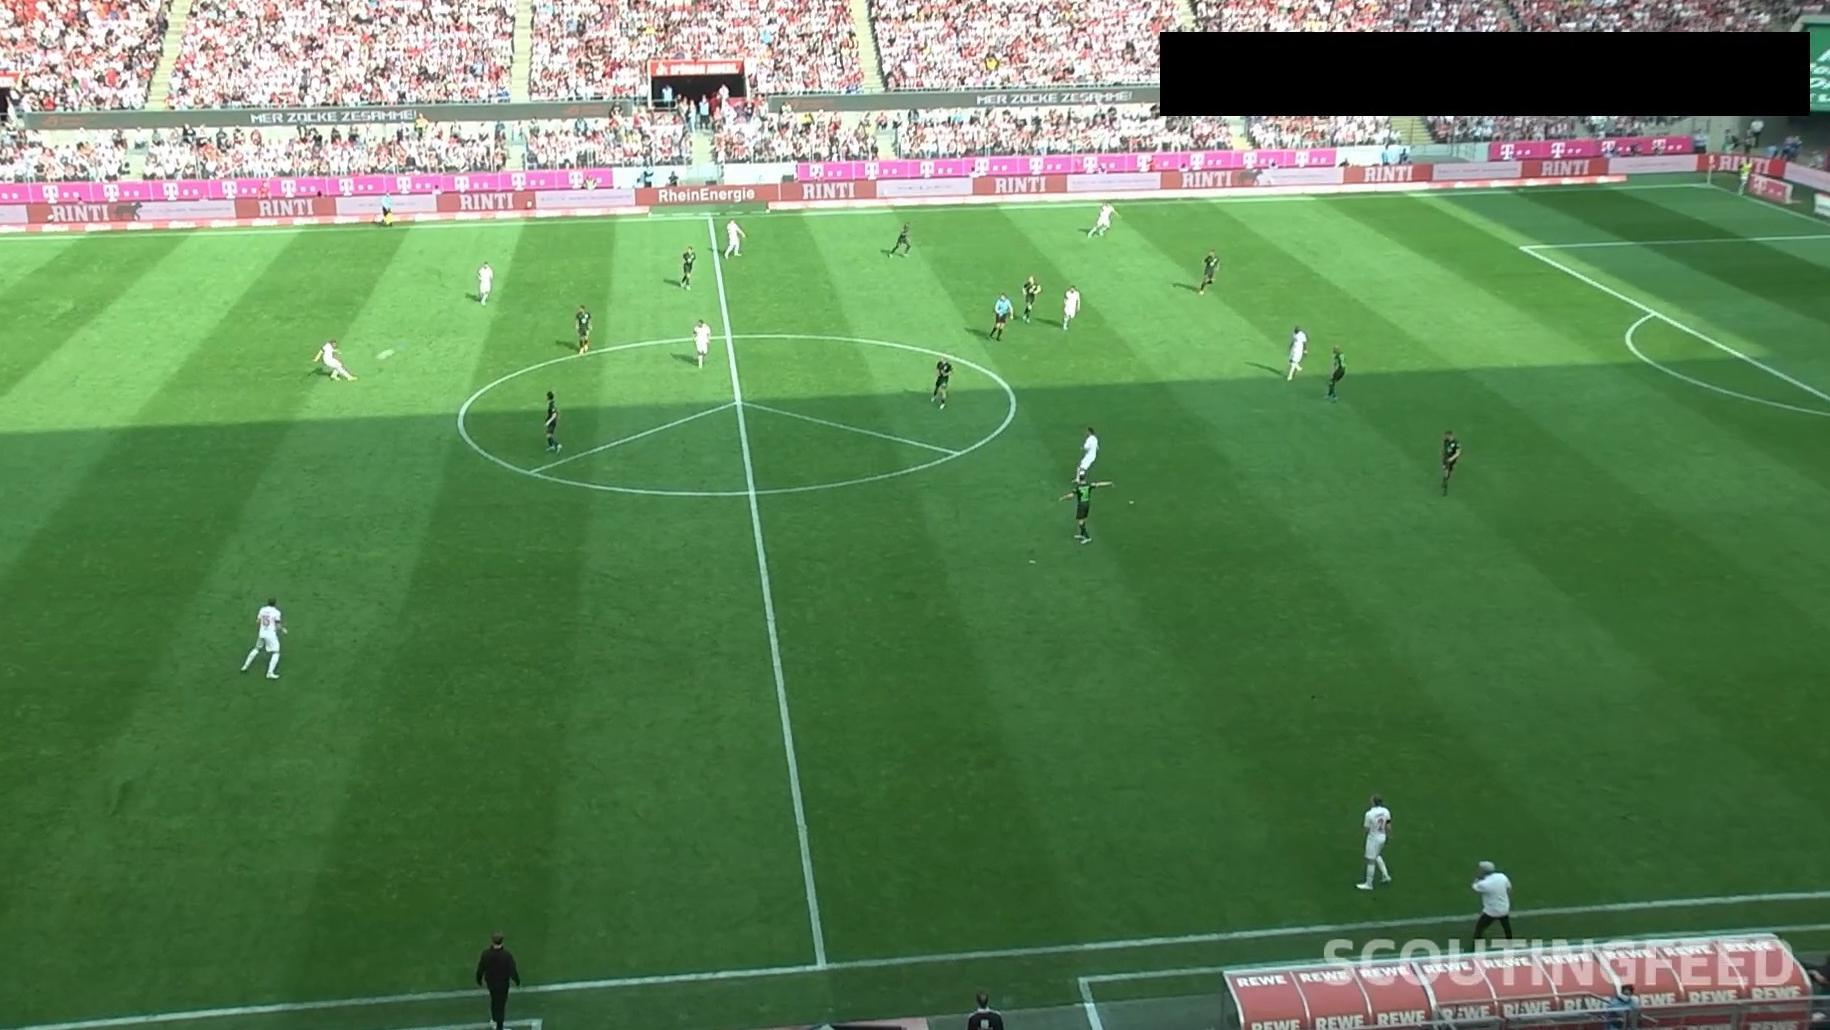ball: (377, 346, 397, 360)
